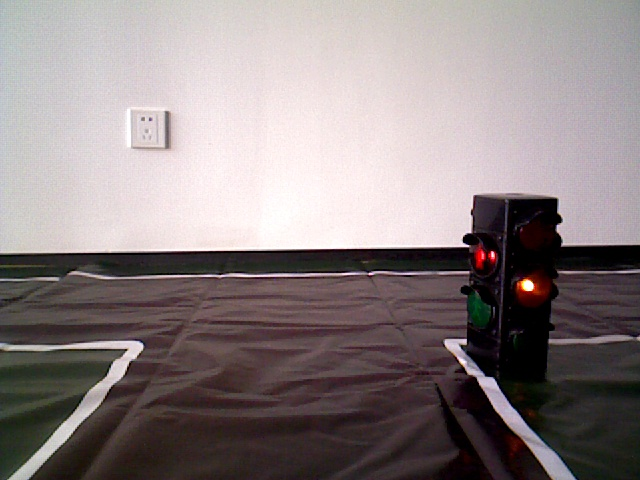yellow: (468, 193, 550, 368)
